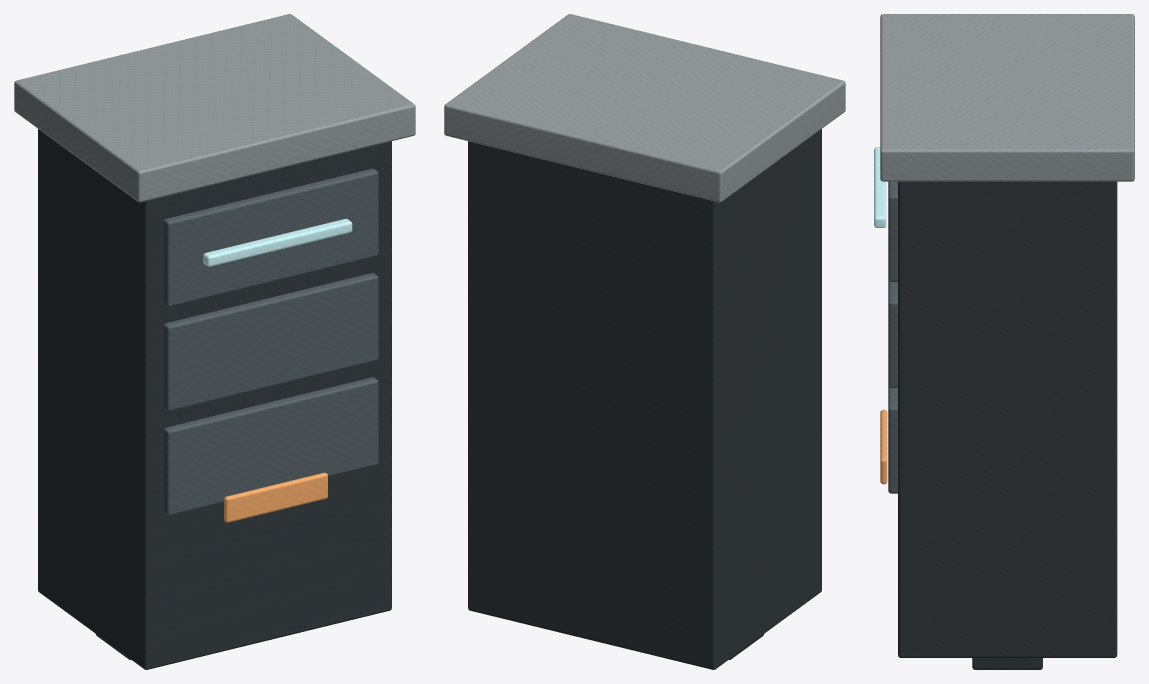
File: RollingToolCabinet.glb
3 renders of one model, left to right at view 1: azimuth 30°, elevation 25°; view 2: azimuth 150°, elevation 25°; view 3: azimuth 270°, elevation 25°, orthographic.
Visible parts, largest first — view 1: RollingToolCabinet_Mesh; view 2: RollingToolCabinet_Mesh; view 3: RollingToolCabinet_Mesh.
Part boxes in pixels (box(x1,y1,x2,y2)): RollingToolCabinet_Mesh: box(14, 14, 415, 669); RollingToolCabinet_Mesh: box(444, 14, 845, 669); RollingToolCabinet_Mesh: box(874, 14, 1134, 669).
Bounding box in the file's own units: 0.92 × 1.68 × 0.7375.
Materials: 5 (5 with a texture image).
